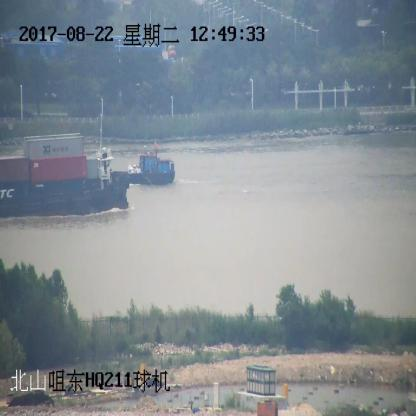Fishing Boat: (116, 143, 176, 187)
